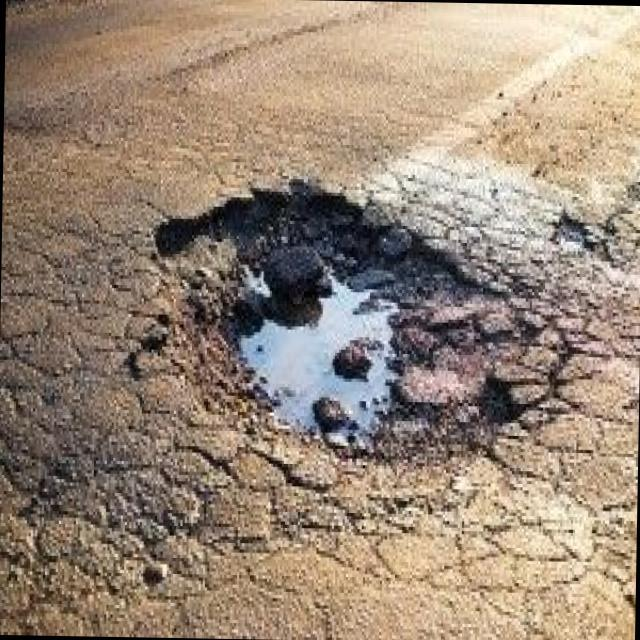Pothole: (152, 180, 532, 512)
